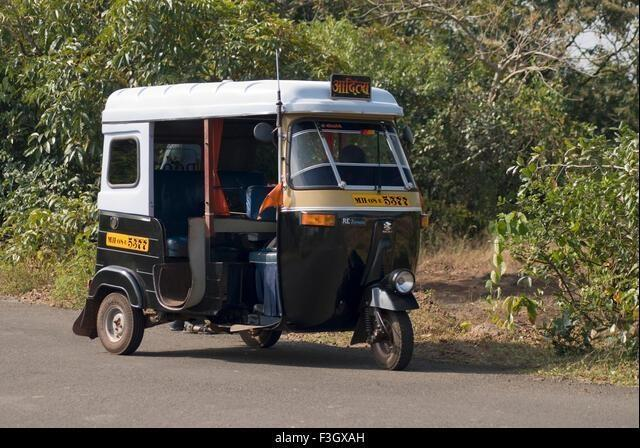keke: (88, 68, 428, 377)
